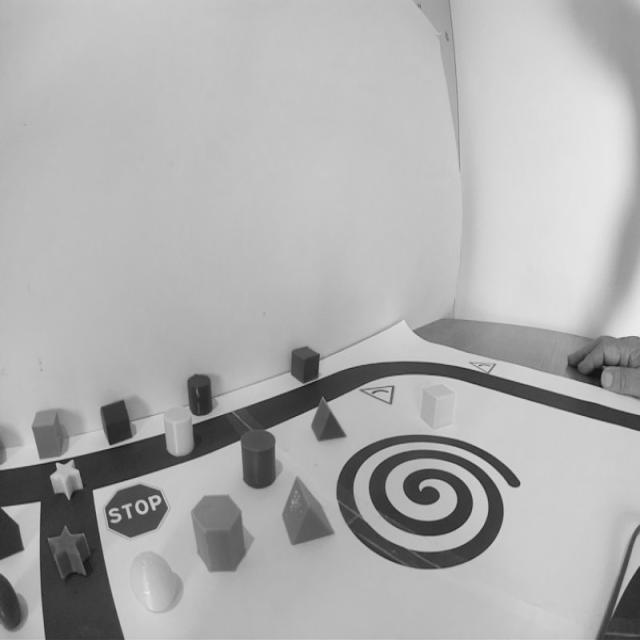ball: (124, 544, 184, 622)
cube: (419, 380, 459, 433), (29, 406, 66, 462), (287, 340, 323, 388)
cylinder: (238, 425, 279, 494), (161, 403, 196, 461), (185, 368, 215, 419)
hexagon: (187, 492, 252, 578)
home: (98, 400, 136, 448)
nest: (328, 429, 530, 576)
star: (43, 523, 96, 581), (46, 457, 87, 502)
stop: (91, 478, 173, 542)
triangle: (280, 473, 338, 550), (307, 394, 352, 446)
